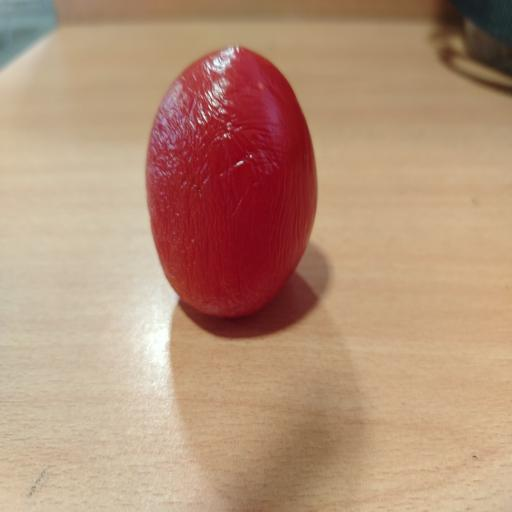spoiled: (146, 46, 317, 317)
